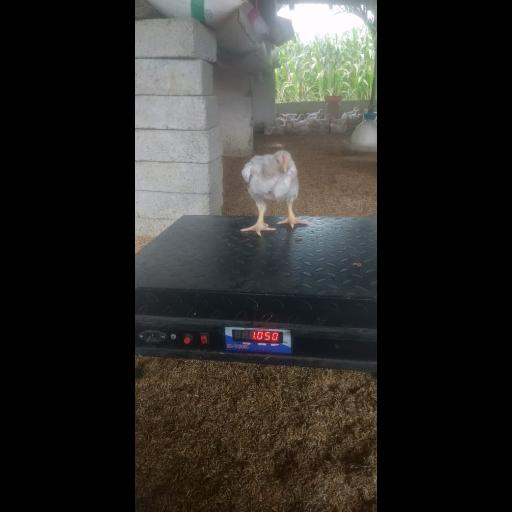chick: (241, 151, 308, 237)
